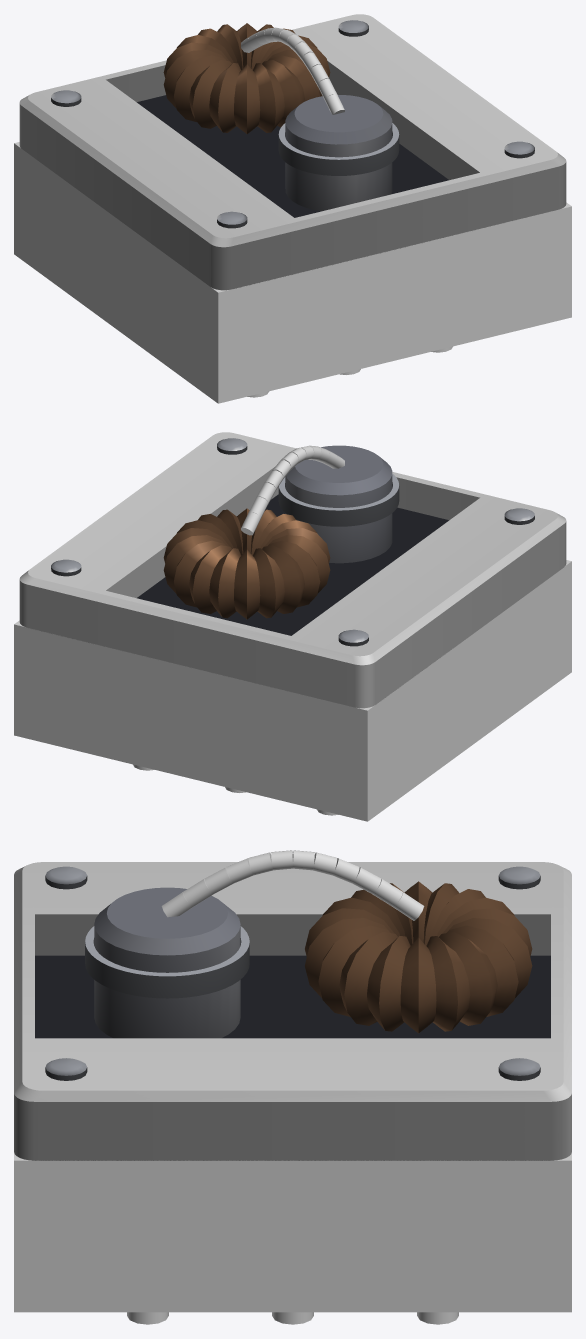
File: part_resonator.glb
The picture shows the model from 3 angles, top to bottom: view 1: azimuth 30°, elevation 25°; view 2: azimuth 150°, elevation 25°; view 3: azimuth 270°, elevation 25°; orthographic projection. The views are drawn at different scales.
Parts seen in each view (by area): view 1: Plattform, Gehaeuse, Korpus, Licht; view 2: Plattform, Gehaeuse, Korpus, Licht; view 3: Plattform, Gehaeuse, Korpus, Licht, Stecker.
Part boxes in pixels (x1,y1,x2,y2): Plattform: [19, 14, 566, 290]; Gehaeuse: [14, 142, 571, 403]; Korpus: [51, 20, 534, 228]; Licht: [241, 27, 344, 114]; Plattform: [19, 432, 566, 708]; Gehaeuse: [14, 560, 571, 821]; Korpus: [51, 438, 534, 646]; Licht: [241, 445, 344, 535]; Plattform: [14, 862, 571, 1160]; Gehaeuse: [14, 1152, 571, 1312]; Korpus: [35, 866, 550, 1080]; Licht: [161, 850, 424, 920]; Stecker: [127, 1312, 458, 1324].
Size of the model in its own units: 0.8 by 0.6389 by 0.8.
